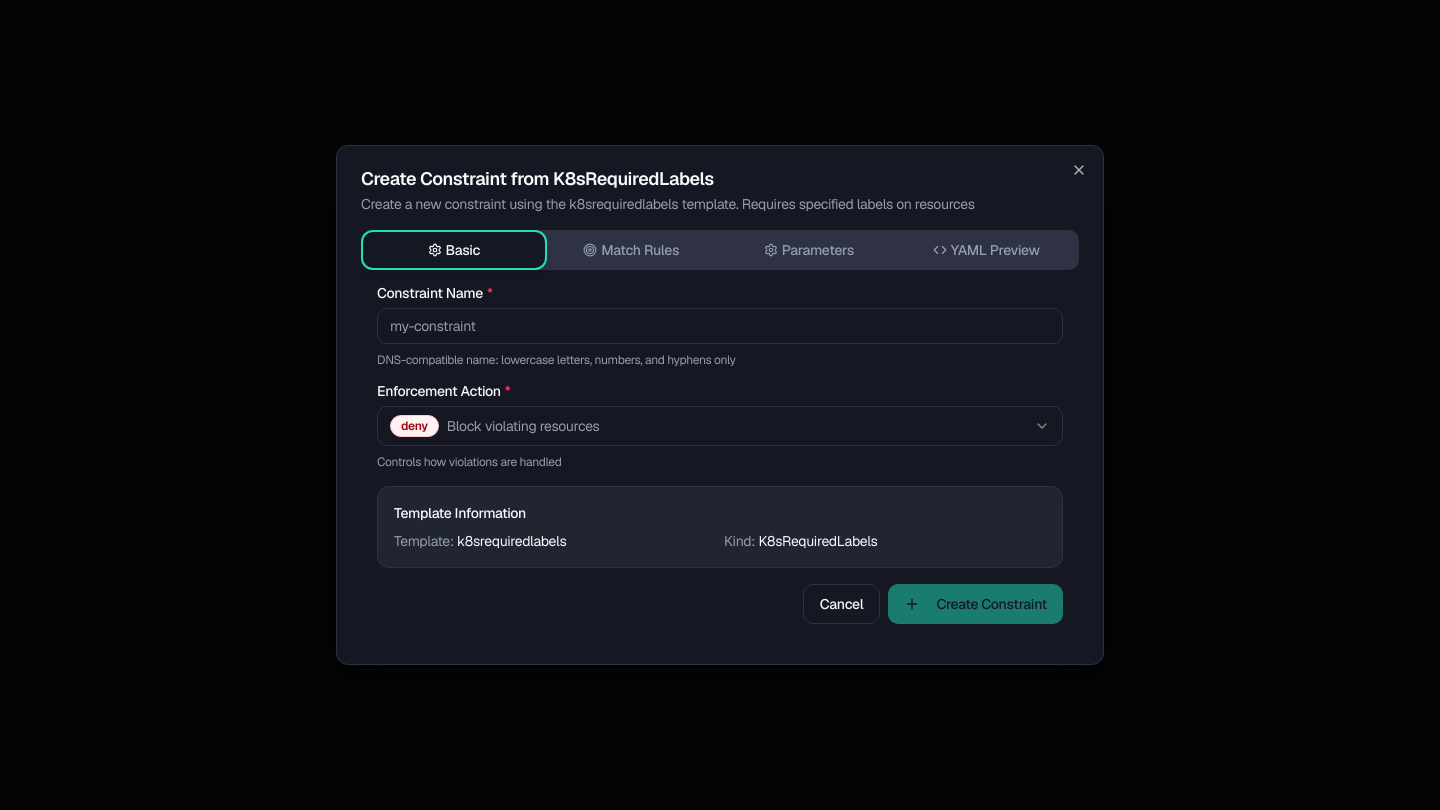
CreateConstraintDialog › form validation › validates DNS-compatible name format (AC-FORM-02)
The image size is (1440, 810).
# Invalid: starts with hyphen
Type "-invalid-name" into the field with test id "constraint-name-input".
click(720, 326); type("-invalid-name")  # box [377, 308, 1063, 344]
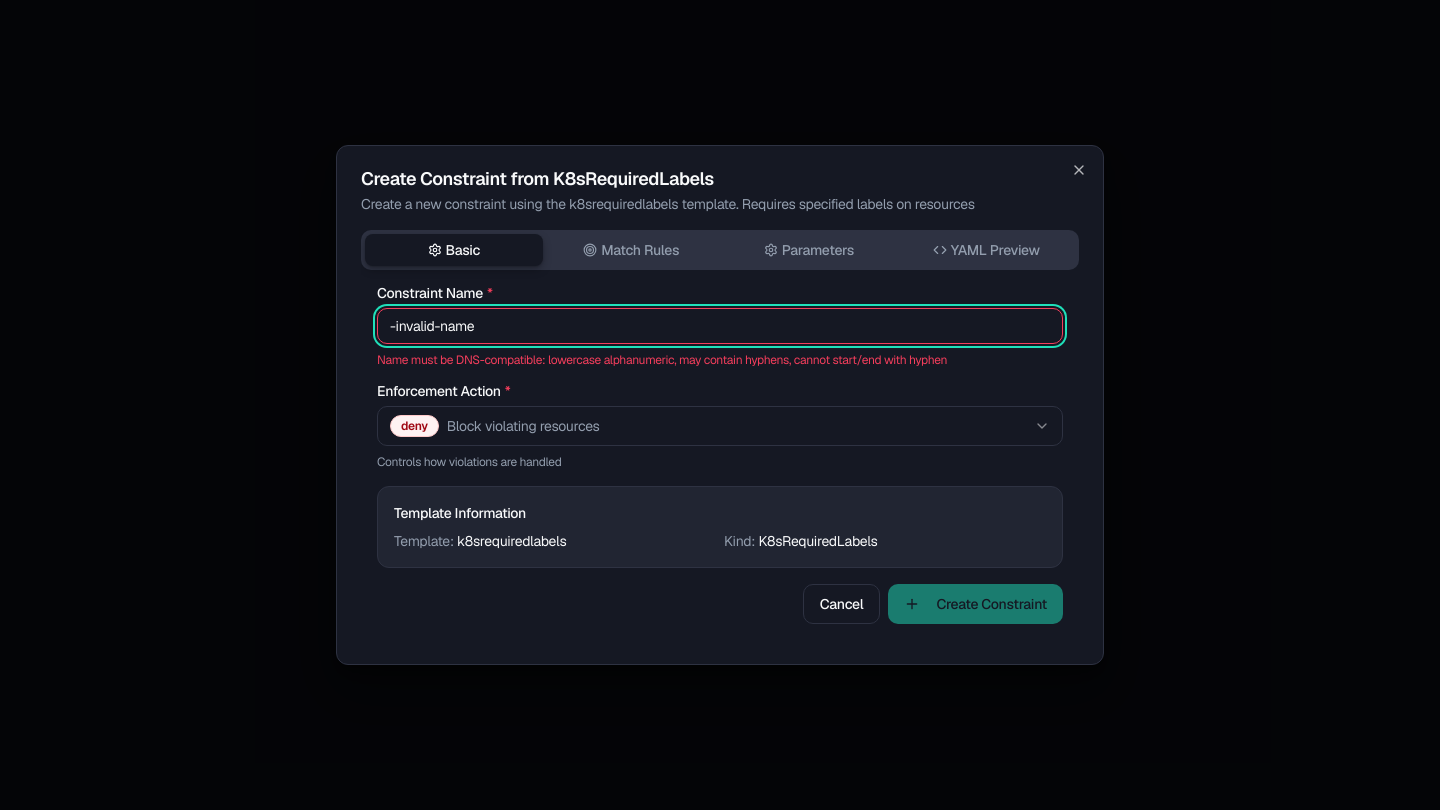
Now the text "DNS-compatible: lowercase alphanumeric" is shown, box [377, 352, 947, 368]
